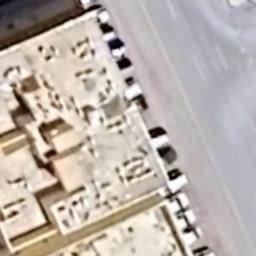sedan: (167, 186, 191, 216), (174, 206, 196, 236), (180, 226, 202, 250)
